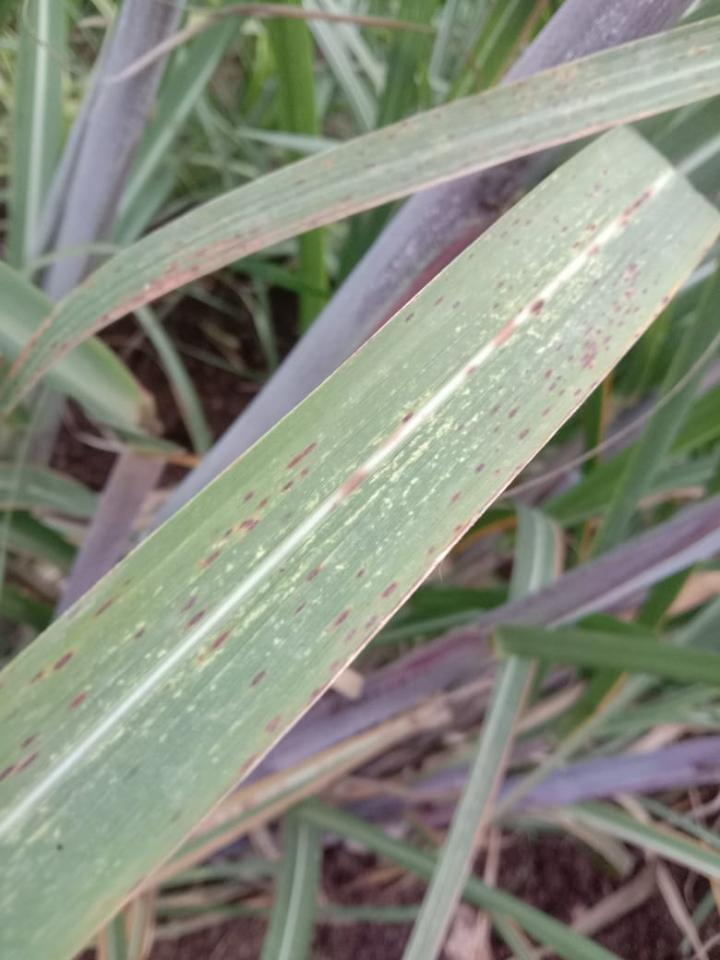RedRot: (619, 189, 653, 230), (338, 469, 372, 502), (490, 319, 518, 349), (528, 298, 545, 320)
Rust: (290, 253, 676, 711), (194, 438, 325, 573), (496, 208, 601, 252), (232, 708, 290, 781), (488, 267, 545, 318), (0, 728, 42, 783), (402, 291, 465, 327), (172, 587, 218, 635), (194, 621, 240, 668), (28, 646, 79, 687), (91, 590, 123, 623), (64, 686, 95, 712), (246, 667, 268, 693), (129, 622, 150, 645), (399, 410, 415, 427)
